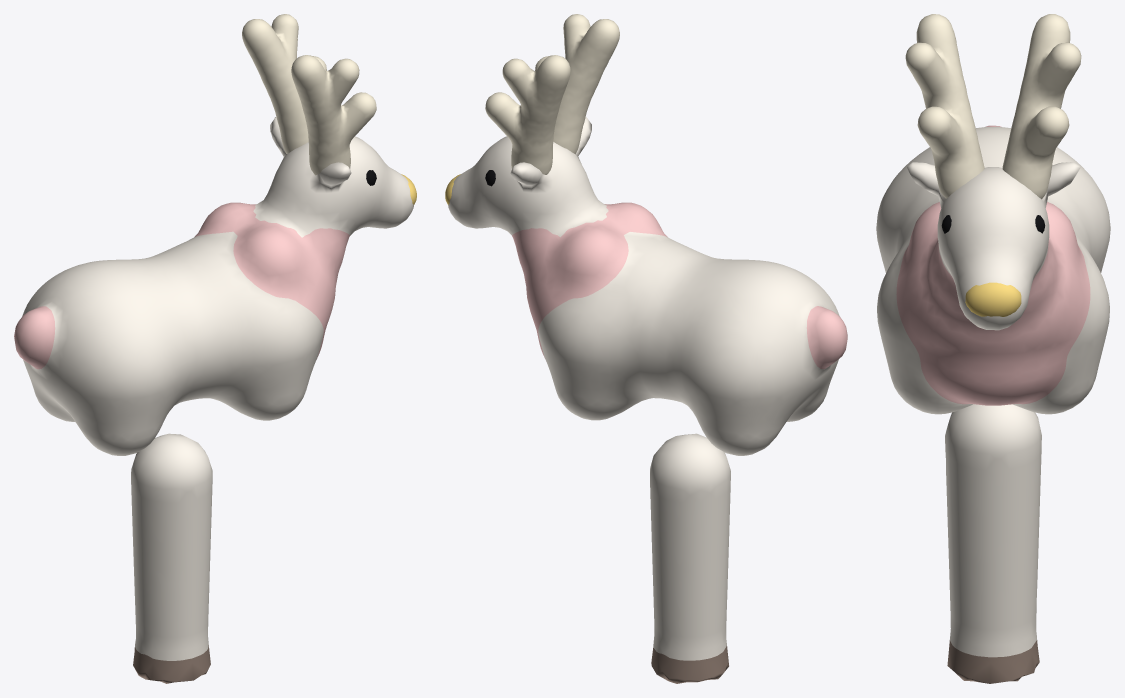
File: reindeer_adult.glb
3 renders of one model, left to right at view 1: azimuth 30°, elevation 25°; view 2: azimuth 150°, elevation 25°; view 3: azimuth 270°, elevation 25°, orthographic. The views are drawn at different scales.
Parts seen in each view (by area): view 1: body, leg, horn; view 2: body, leg, horn; view 3: body, leg, horn, beak.
Part boxes in pixels (<box>): body: <box>14,117,413,455</box>; leg: <box>131,433,212,683</box>; horn: <box>242,14,376,175</box>; body: <box>448,117,847,455</box>; leg: <box>650,433,730,683</box>; horn: <box>485,14,619,174</box>; body: <box>876,125,1110,414</box>; leg: <box>945,404,1041,683</box>; horn: <box>905,14,1081,199</box>; beak: <box>965,282,1021,316</box>.
Size of the model in its own units: 2.45 by 3.58 by 1.06.
